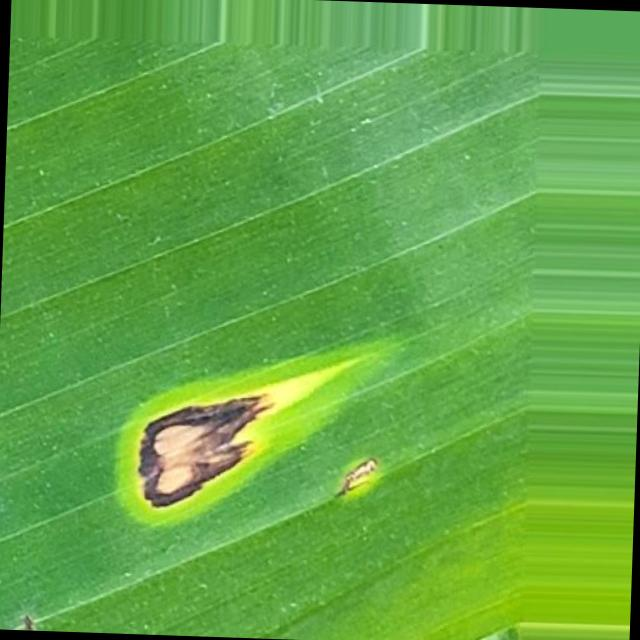Banana_Black_Sigatoka: (84, 339, 414, 604)
